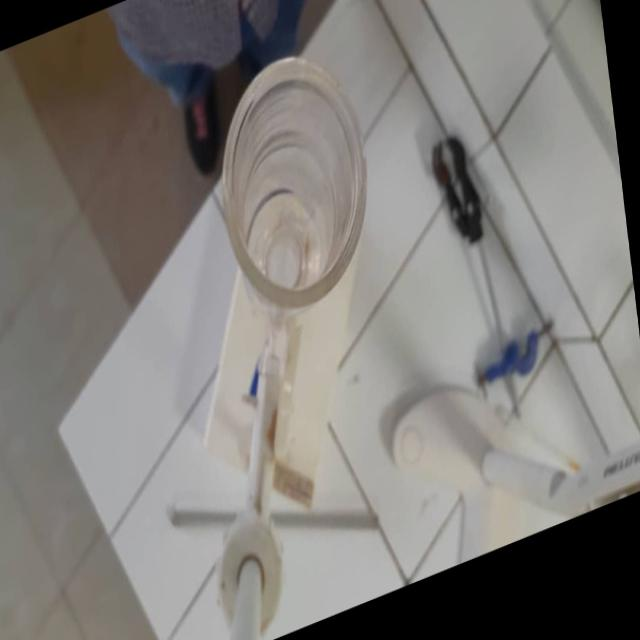Column Chromatography: (194, 21, 390, 420)
